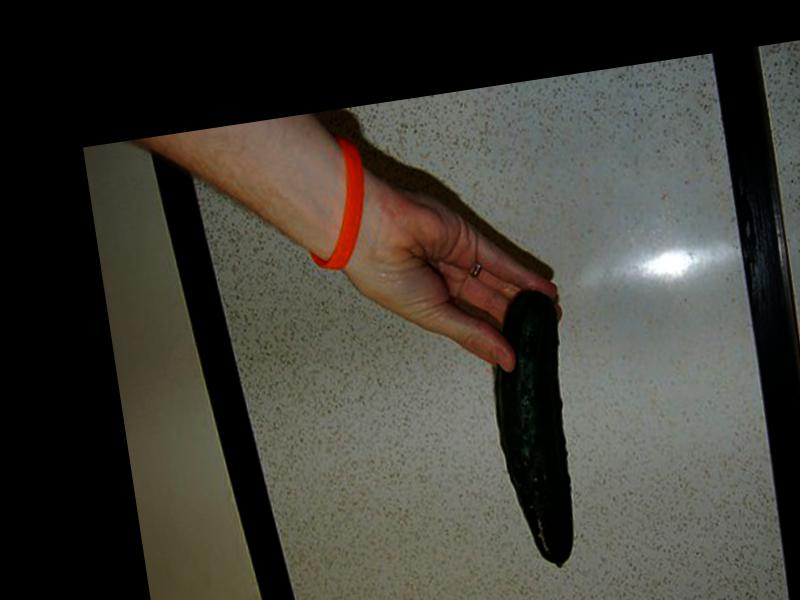Cucumber: (482, 286, 594, 574)
